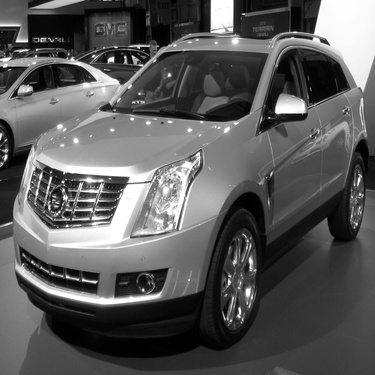car: (17, 26, 366, 354), (1, 54, 135, 179), (73, 43, 176, 104)
